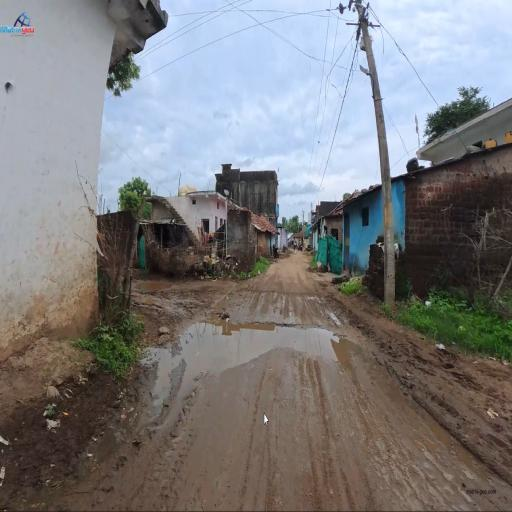longitudinal_crack: (211, 309, 336, 345)
